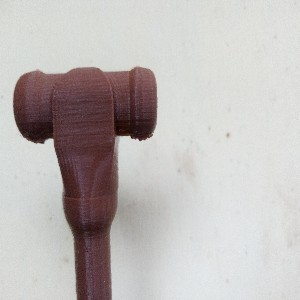palu: (12, 65, 158, 300)
